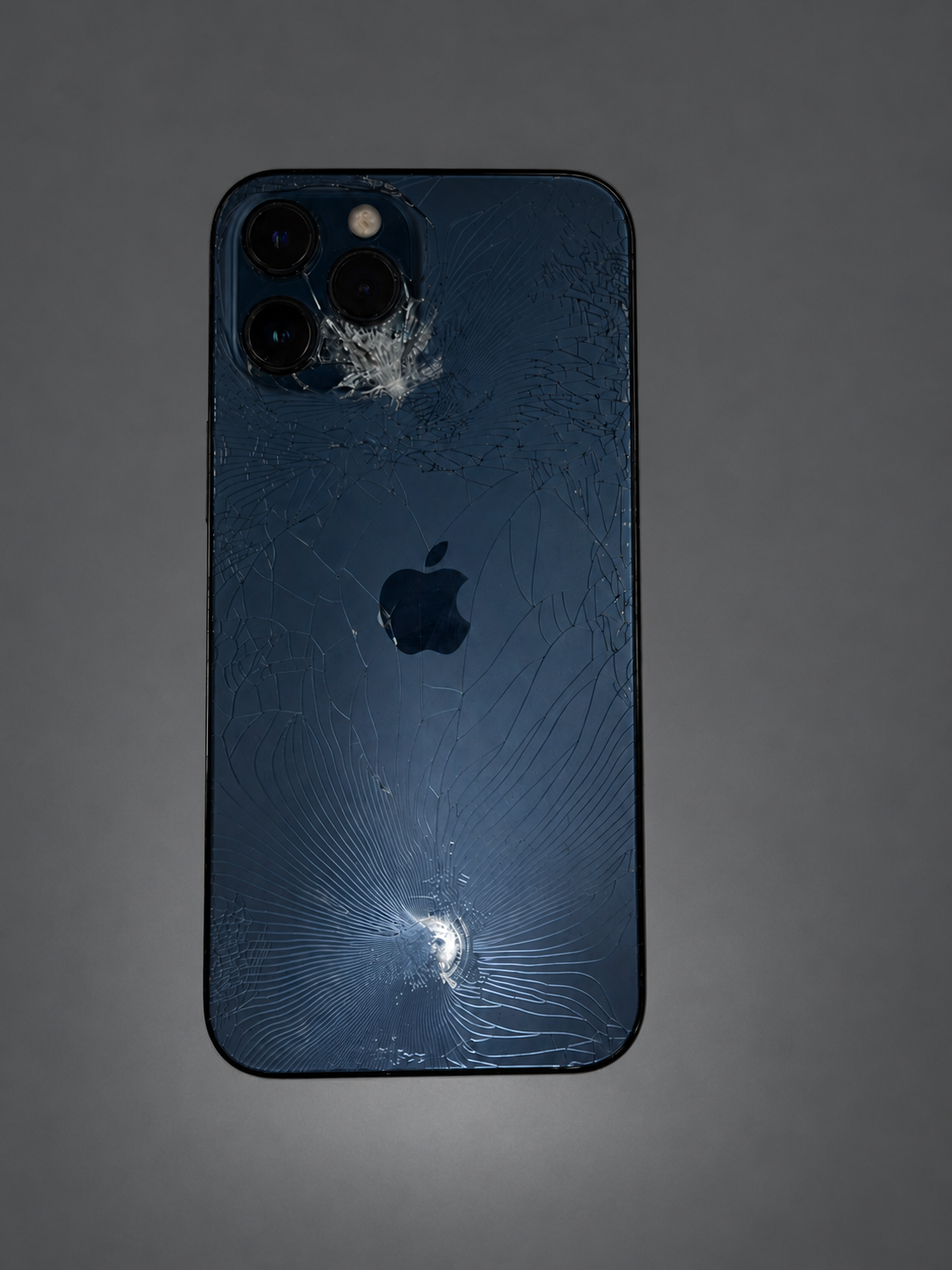iphone_12_pro_max_Crack: (148, 142, 677, 1135)
